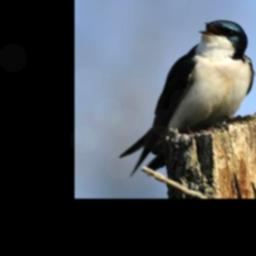Swallow: (117, 18, 253, 177)
